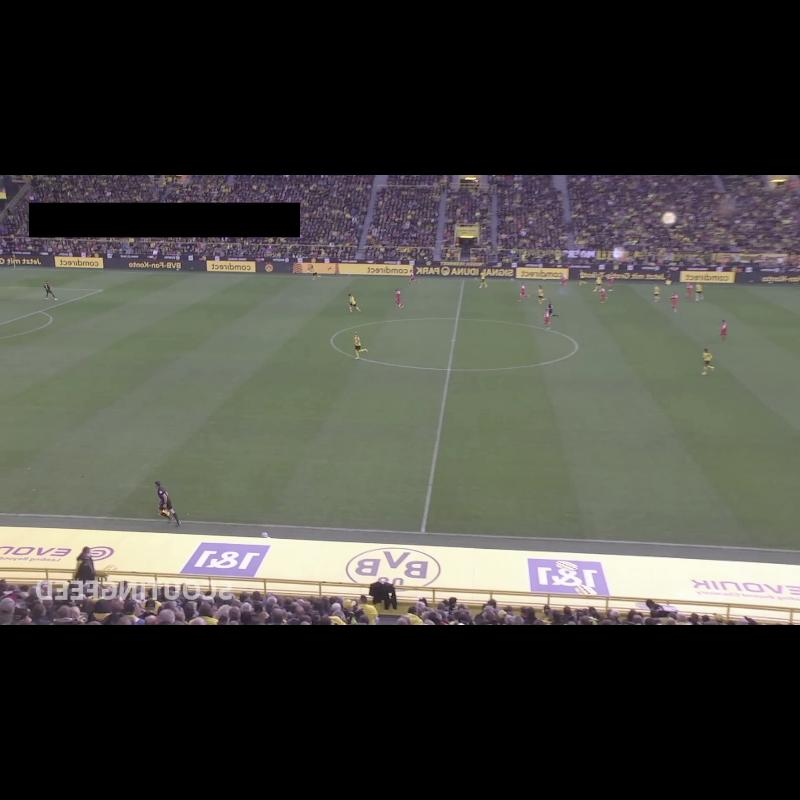cross_recipient_zone: (0, 286, 103, 325)
crossing_player_zone: (0, 268, 223, 294)
pitch: (0, 268, 800, 551)
